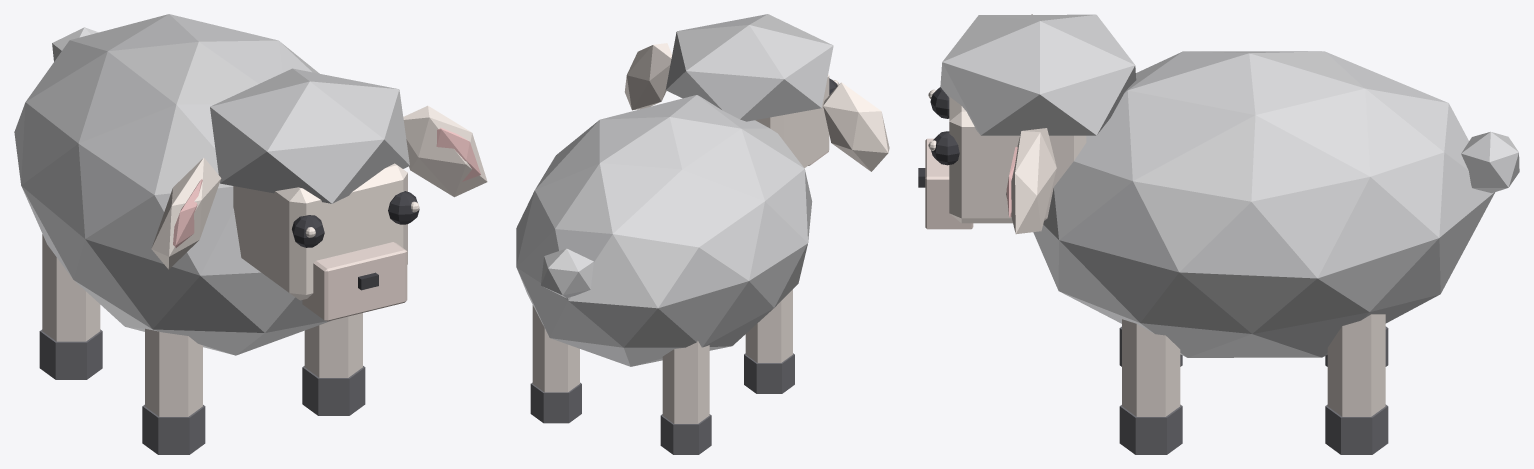
File: Sheep.fbx
3 views of the same model, side by side, from view 1: azimuth 30°, elevation 25°; view 2: azimuth 150°, elevation 25°; view 3: azimuth 270°, elevation 25° (orthographic). The views are drawn at different scales.
Parts seen in each view (by area): view 1: Sheep; view 2: Sheep; view 3: Sheep.
Boxes of the visible parts, <box> form: Sheep: <box>14,14,487,454</box>; Sheep: <box>516,14,889,454</box>; Sheep: <box>918,14,1519,454</box>.
Size of the model in its own units: 1.12 by 1.24 by 1.76.
